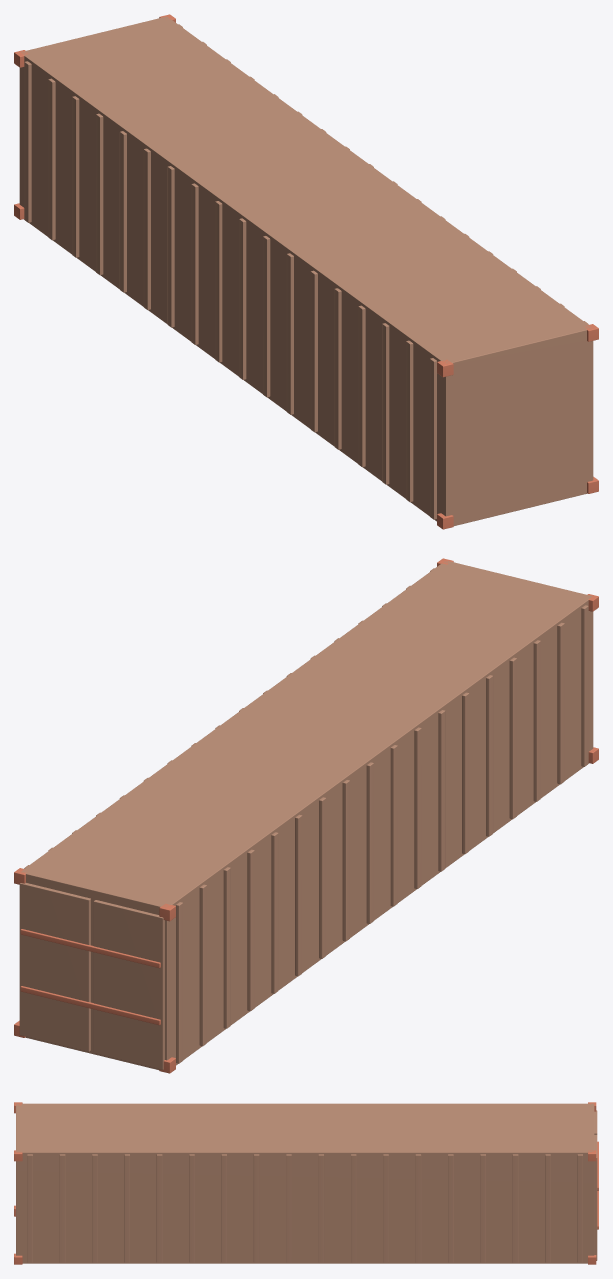
The model's file is container_40ft.glb.
3 views of the same model, one above another, from view 1: azimuth 30°, elevation 25°; view 2: azimuth 150°, elevation 25°; view 3: azimuth 270°, elevation 25° (orthographic). The views are drawn at different scales.
Parts seen in each view (by area): view 1: container_40ft; view 2: container_40ft; view 3: container_40ft.
Boxes of the visible parts, x1,y1,x2,y2 form: container_40ft: (14,14,598,529); container_40ft: (14,558,598,1073); container_40ft: (14,1102,598,1264).
Size of the model in its own units: 2.58 by 2.59 by 12.33.
